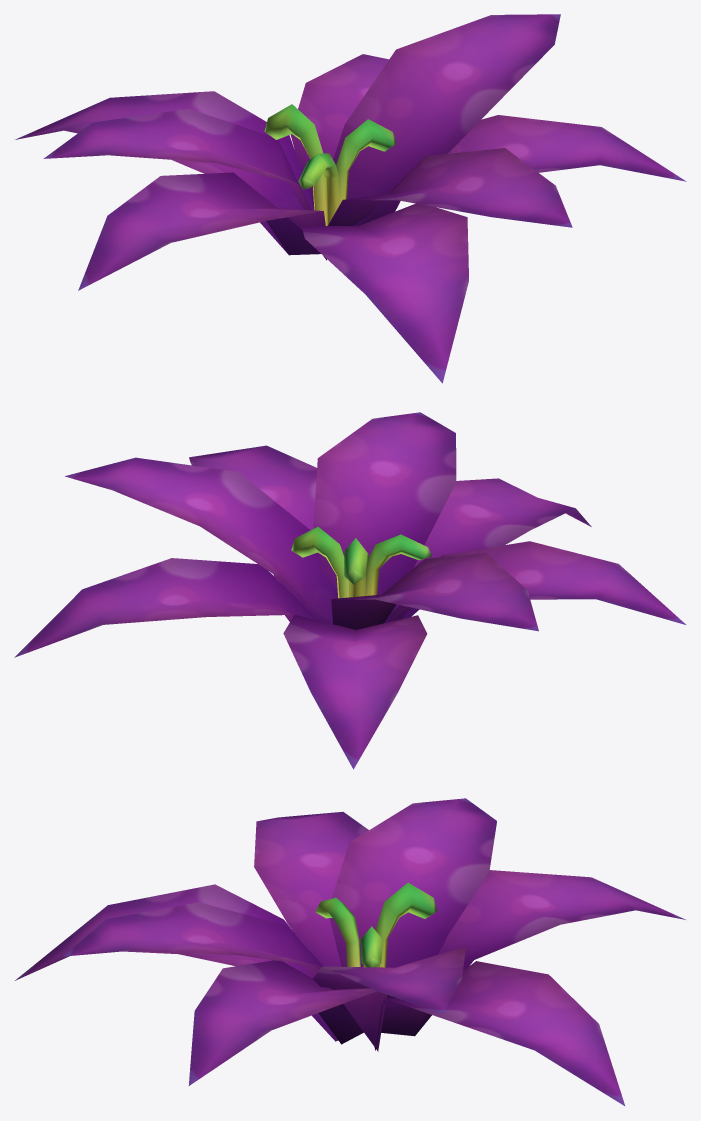
File: Purple_Flower.FBX
3 renders of one model, top to bottom at view 1: azimuth 30°, elevation 25°; view 2: azimuth 150°, elevation 25°; view 3: azimuth 270°, elevation 25°, orthographic. The views are drawn at different scales.
Parts seen in each view (by area): view 1: Flower_Purple; view 2: Flower_Purple; view 3: Flower_Purple.
Part boxes in pixels (bbox=[...]): Flower_Purple: bbox=[15, 14, 686, 383]; Flower_Purple: bbox=[14, 412, 685, 769]; Flower_Purple: bbox=[15, 798, 685, 1105].
Bounding box in the file's own units: 66.98 × 17.49 × 69.45.
